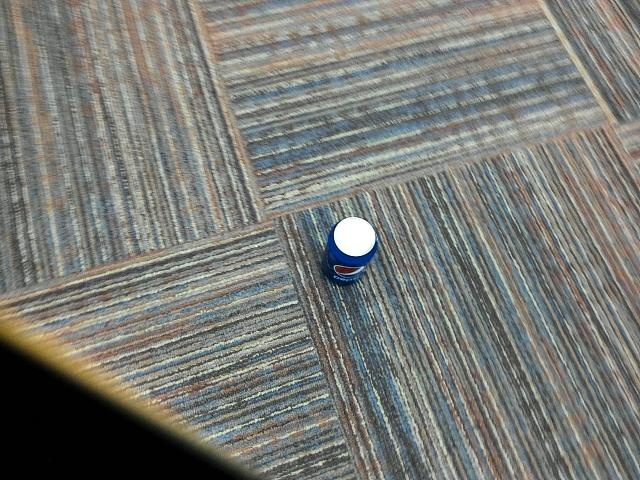can: (321, 210, 378, 294)
